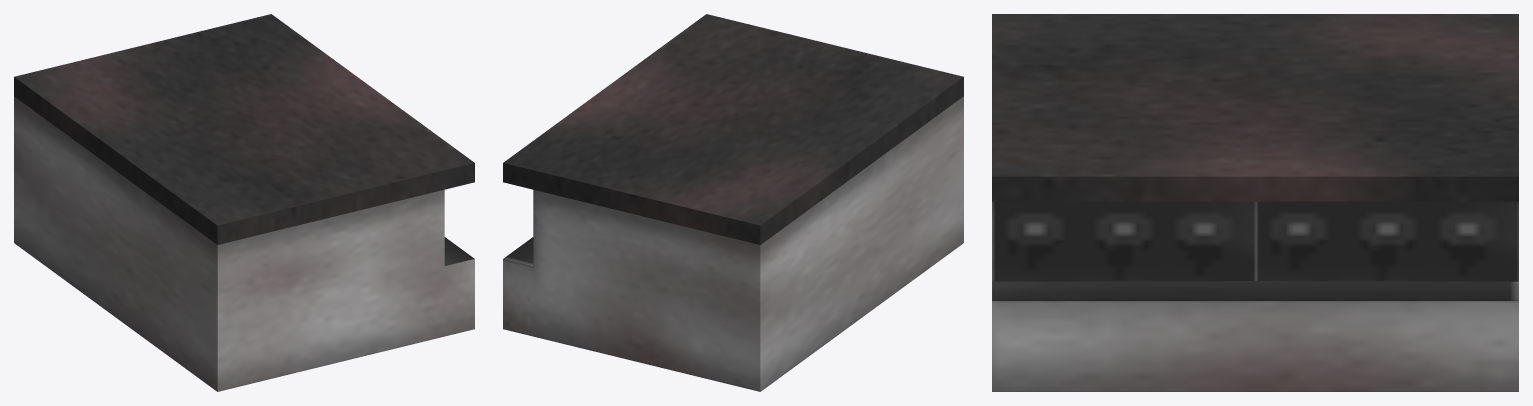
File: LP_CUPDISPENSER.fbx
The picture shows the model from 3 angles, left to right: view 1: azimuth 30°, elevation 25°; view 2: azimuth 150°, elevation 25°; view 3: azimuth 270°, elevation 25°; orthographic projection. The views are drawn at different scales.
Visible parts, largest first — view 1: CupDispenser; view 2: CupDispenser; view 3: CupDispenser.
Part boxes in pixels (bbox=[...]): CupDispenser: bbox=[14, 14, 474, 391]; CupDispenser: bbox=[503, 14, 963, 391]; CupDispenser: bbox=[992, 14, 1518, 391].
Bounding box in the file's own units: 227 × 140 × 310.
